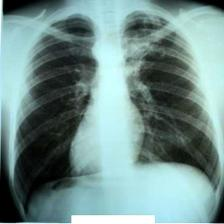tuberculosis: (11, 13, 224, 220)
